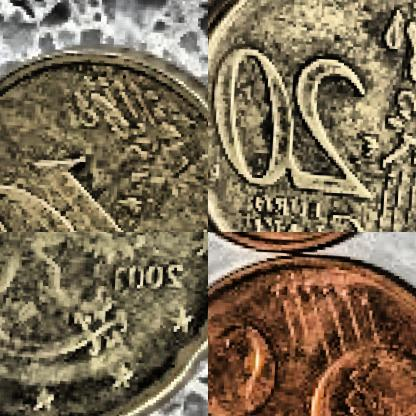coin: (208, 0, 415, 231), (0, 42, 207, 231), (0, 232, 207, 415), (208, 239, 415, 415)
